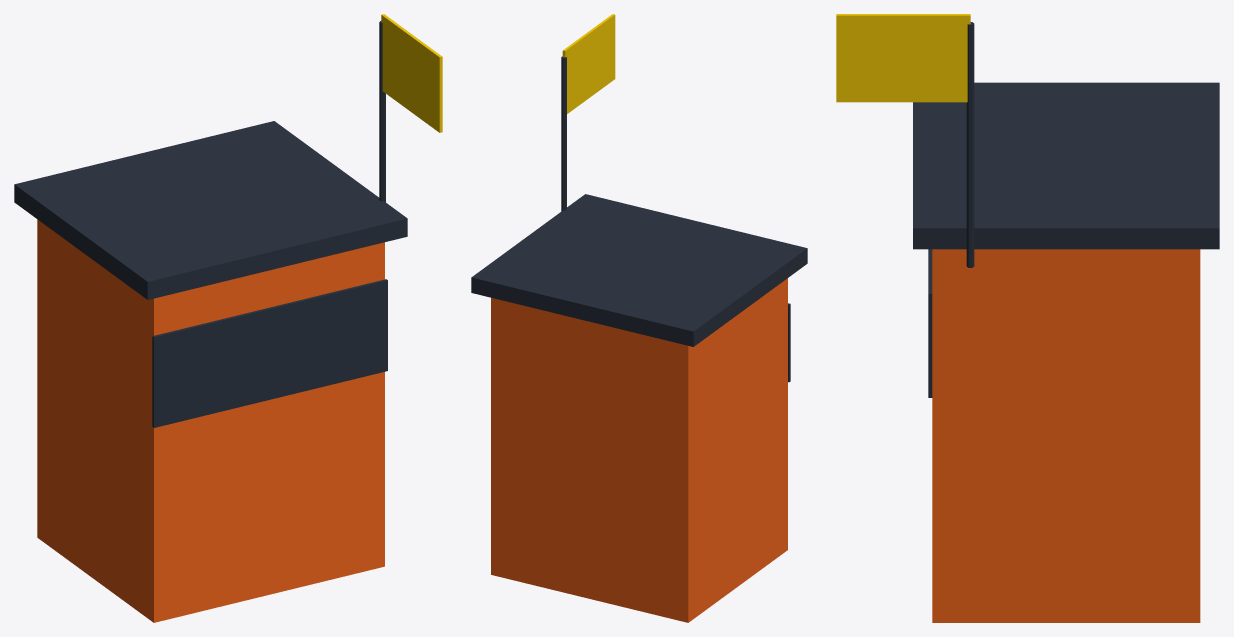
File: marshal_post.glb
3 views of the same model, side by side, from view 1: azimuth 30°, elevation 25°; view 2: azimuth 150°, elevation 25°; view 3: azimuth 270°, elevation 25° (orthographic). The views are drawn at different scales.
Parts seen in each view (by area): view 1: marshal; view 2: marshal; view 3: marshal.
Boxes of the visible parts, x1,y1,x2,y2 form: marshal: (14,14,442,622); marshal: (471,14,807,622); marshal: (836,14,1219,622).
Size of the model in its own units: 1.82 by 3.55 by 2.
